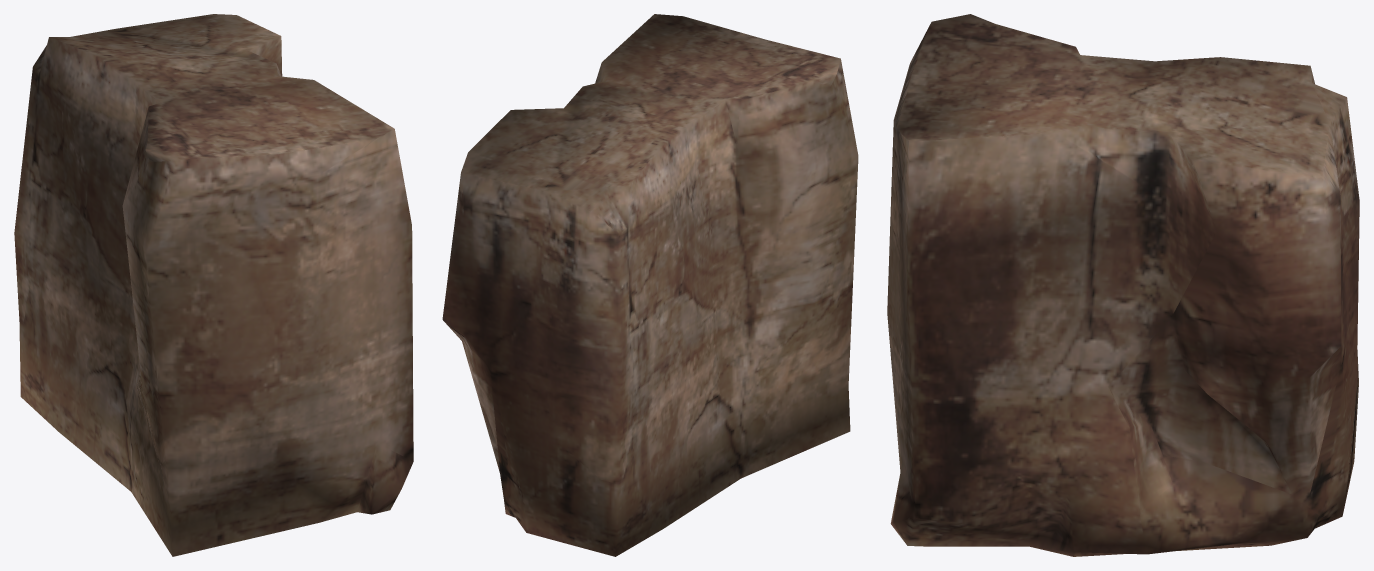
File: Mesh_Cliff_Block_04_AS.fbx
3 renders of one model, left to right at view 1: azimuth 30°, elevation 25°; view 2: azimuth 150°, elevation 25°; view 3: azimuth 270°, elevation 25°, orthographic. The views are drawn at different scales.
Parts seen in each view (by area): view 1: Mesh_Cliff_Block_04_AS; view 2: Mesh_Cliff_Block_04_AS; view 3: Mesh_Cliff_Block_04_AS.
Part boxes in pixels (box(x1,y1,x2,y2)): Mesh_Cliff_Block_04_AS: box(14, 14, 413, 556); Mesh_Cliff_Block_04_AS: box(442, 14, 858, 556); Mesh_Cliff_Block_04_AS: box(887, 14, 1359, 556).
Size of the model in its own units: 4591 by 6862 by 6592.
